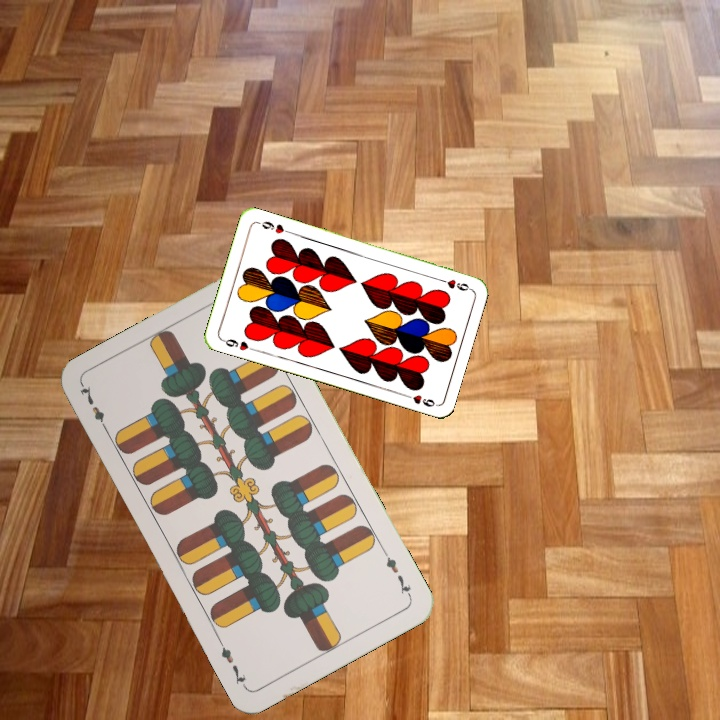E7: (76, 381, 112, 436), (378, 546, 414, 600)
H9: (433, 274, 473, 293), (218, 335, 258, 353)
